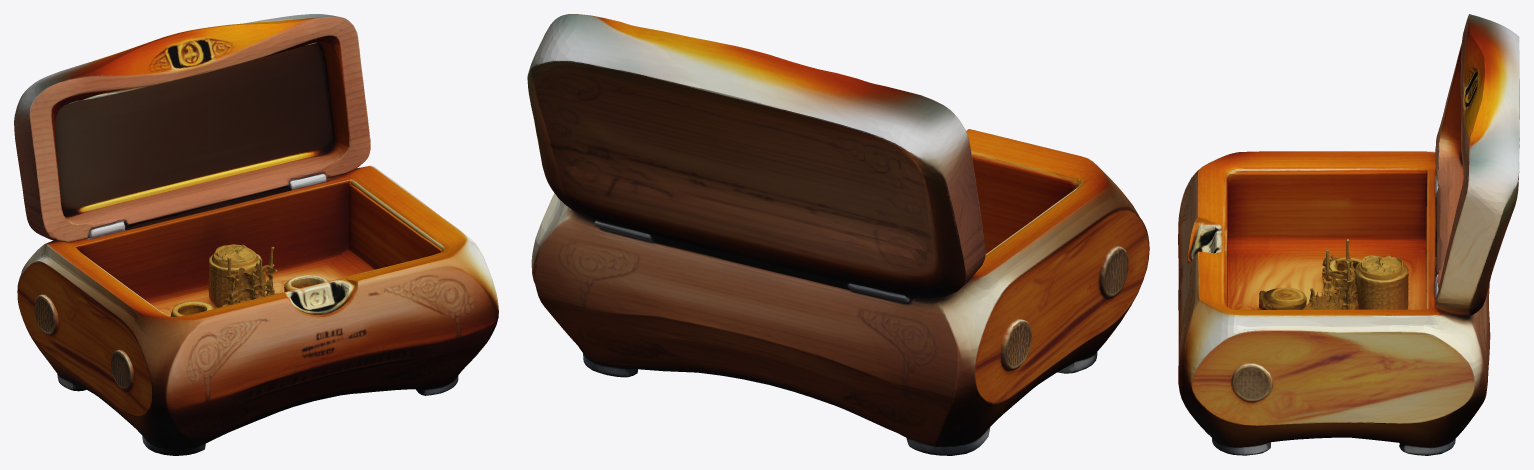
Rendered from wooden-musical-jewelry-box-futuristic.jpeg.glb.
The picture shows the model from 3 angles, left to right: view 1: azimuth 30°, elevation 25°; view 2: azimuth 150°, elevation 25°; view 3: azimuth 270°, elevation 25°; orthographic projection. The views are drawn at different scales.
Visible parts, largest first — view 1: world; view 2: world; view 3: world.
Boxes of the visible parts, x1,y1,x2,y2 form: world: (14,14,498,455); world: (527,14,1149,455); world: (1178,14,1519,455).
Bounding box in the file's own units: 0.9924 × 0.7998 × 0.8041.
Materials: 1 (1 with a texture image).
